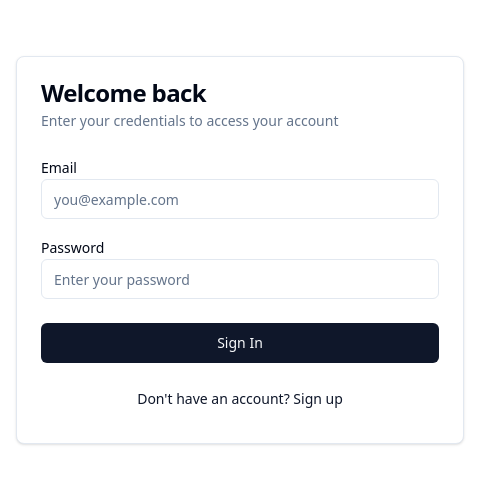
it: LoginPage › toggles back to login form
# Toggle to register
Click the button "Don't have an account? Sign up": (240, 399) [121, 379, 359, 419]
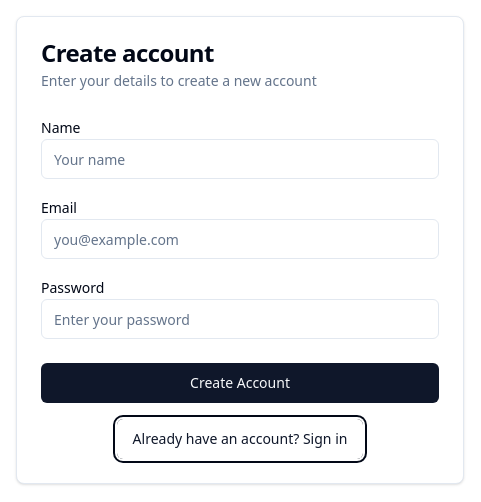
# Toggle back to login
Click the button "Already have an account? Sign in": (240, 439) [117, 419, 363, 459]
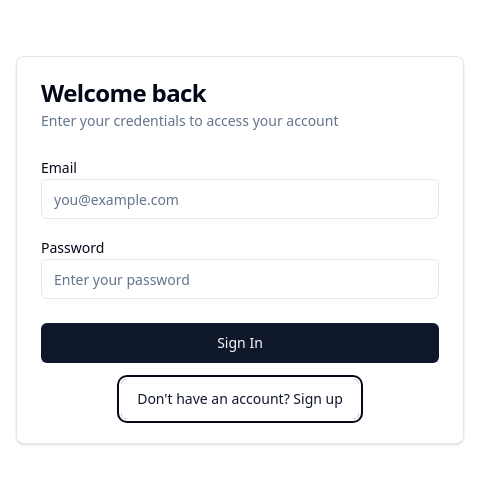
expect the heading "Welcome back" is shown: met, box [41, 76, 206, 109]
